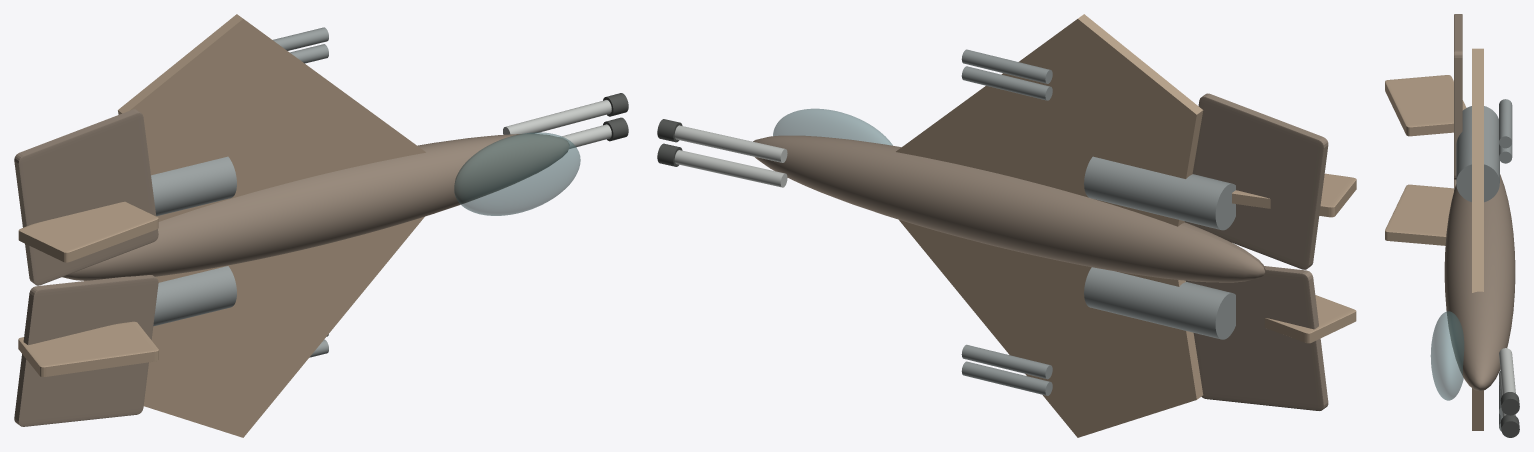
The model's file is d-u23-dominion-interceptor-lod1.glb.
The picture shows the model from 3 angles, left to right: view 1: azimuth 30°, elevation 25°; view 2: azimuth 150°, elevation 25°; view 3: azimuth 270°, elevation 25°; orthographic projection. The views are drawn at different scales.
Visible parts, largest first — view 1: combat_main_wing, combat_fuselage, combat_tailplane_-1, combat_tailplane_1, combat_canopy, combat_fin_-1, combat_fin_1, combat_engine_1, combat_engine_0, combat_gun_barrel_1, combat_1_tube_2, combat_gun_barrel_0; view 2: combat_main_wing, combat_fuselage, combat_tailplane_1, combat_tailplane_-1, combat_engine_0, combat_engine_1, combat_canopy, combat_fin_-1, combat_gun_barrel_0, combat_gun_barrel_1, combat_fin_1, combat_1_tube_1 (+3 smaller); view 3: combat_fuselage, combat_fin_1, combat_main_wing, combat_fin_-1, combat_engine_1, combat_canopy, combat_tailplane_1, combat_1_tube_2, combat_gun_barrel_1, combat_gun_muzzle_1, combat_gun_muzzle_0, combat_1_tube_1.
Part boxes in pixels (x1=…): combat_main_wing: x1=118, y1=14, x2=425, y2=437; combat_fuselage: x1=62, y1=134, x2=569, y2=280; combat_tailplane_-1: x1=14, y1=275, x2=158, y2=426; combat_tailplane_1: x1=14, y1=109, x2=158, y2=285; combat_canopy: x1=454, y1=132, x2=580, y2=215; combat_fin_-1: x1=18, y1=321, x2=158, y2=376; combat_fin_1: x1=18, y1=201, x2=158, y2=262; combat_engine_1: x1=151, y1=156, x2=236, y2=216; combat_engine_0: x1=153, y1=266, x2=236, y2=326; combat_gun_barrel_1: x1=503, y1=100, x2=611, y2=134; combat_1_tube_2: x1=273, y1=27, x2=328, y2=50; combat_gun_barrel_0: x1=560, y1=124, x2=611, y2=148; combat_main_wing: x1=896, y1=14, x2=1203, y2=437; combat_fuselage: x1=753, y1=135, x2=1265, y2=282; combat_tailplane_1: x1=1184, y1=93, x2=1328, y2=269; combat_tailplane_-1: x1=1186, y1=266, x2=1328, y2=410; combat_engine_0: x1=1084, y1=267, x2=1235, y2=339; combat_engine_1: x1=1084, y1=156, x2=1235, y2=230; combat_canopy: x1=773, y1=108, x2=892, y2=145; combat_fin_-1: x1=1264, y1=295, x2=1356, y2=343; combat_gun_barrel_0: x1=674, y1=150, x2=787, y2=187; combat_gun_barrel_1: x1=674, y1=125, x2=787, y2=162; combat_fin_1: x1=1232, y1=173, x2=1356, y2=217; combat_1_tube_1: x1=961, y1=66, x2=1052, y2=100; combat_fuselage: x1=1444, y1=174, x2=1515, y2=391; combat_fin_1: x1=1385, y1=75, x2=1466, y2=136; combat_main_wing: x1=1472, y1=48, x2=1483, y2=430; combat_fin_-1: x1=1385, y1=184, x2=1453, y2=245; combat_engine_1: x1=1456, y1=106, x2=1499, y2=202; combat_canopy: x1=1430, y1=311, x2=1464, y2=400; combat_tailplane_1: x1=1454, y1=14, x2=1462, y2=179; combat_1_tube_2: x1=1499, y1=99, x2=1512, y2=148; combat_gun_barrel_1: x1=1499, y1=348, x2=1515, y2=394; combat_gun_muzzle_1: x1=1500, y1=392, x2=1519, y2=415; combat_gun_muzzle_0: x1=1500, y1=415, x2=1519, y2=437; combat_1_tube_1: x1=1499, y1=143, x2=1512, y2=163.
Size of what is drawn, in the model's own units: 13.47 by 8.45 by 2.7.
